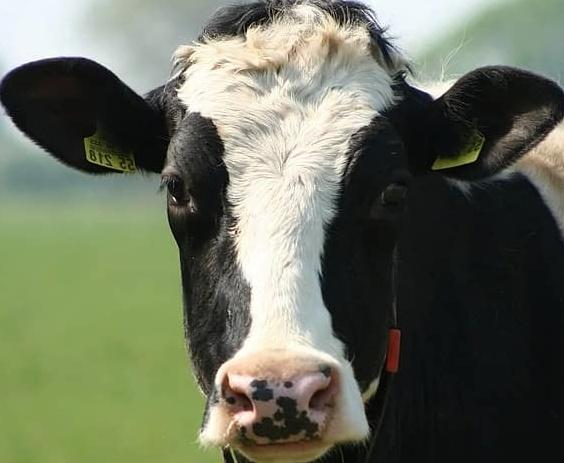muzzles: (195, 361, 371, 461)
